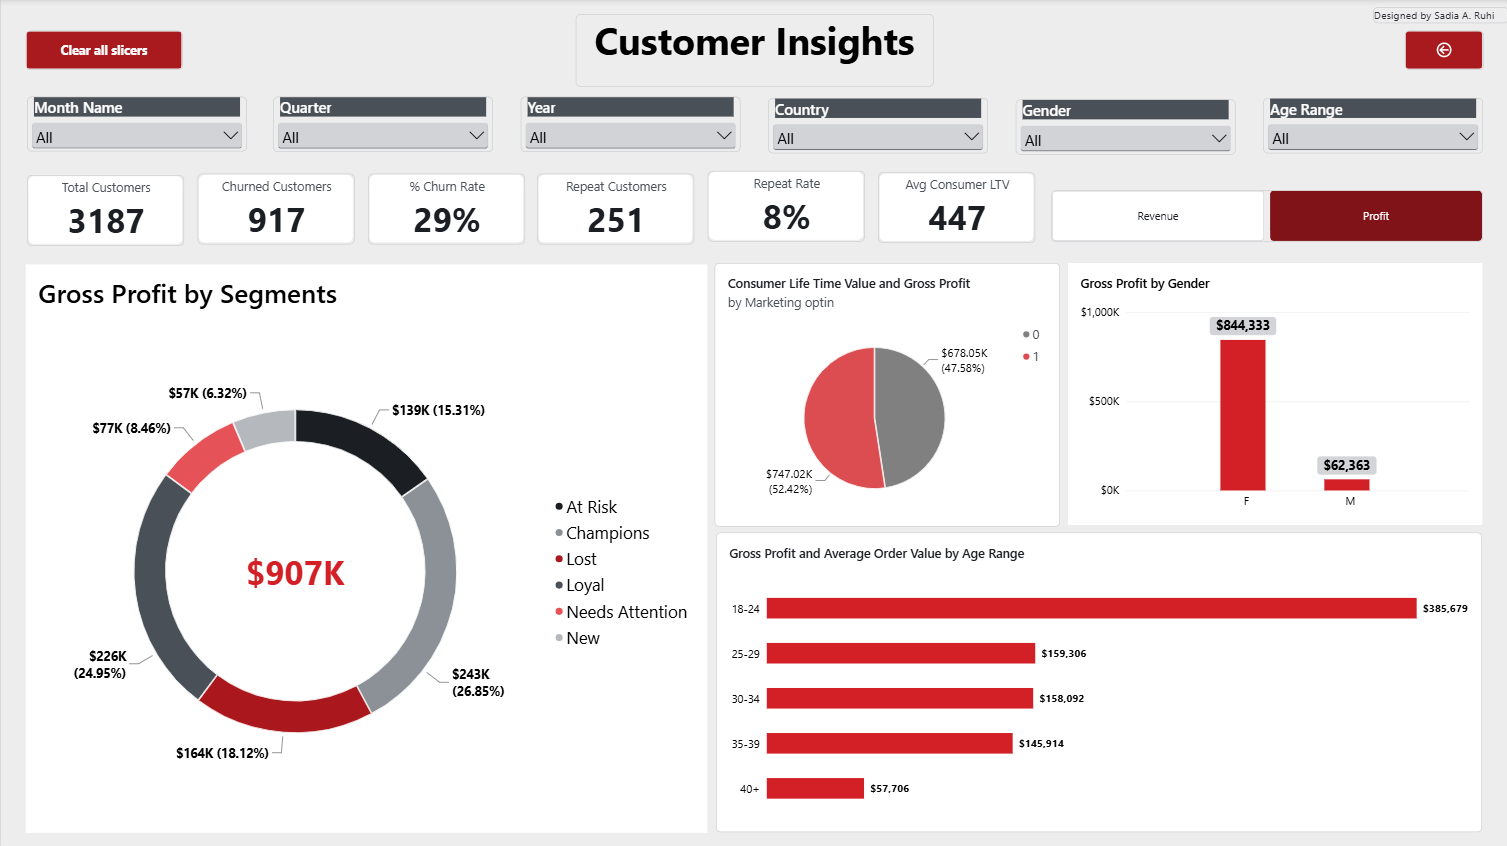

The page's visual inventory and layout, read from the dashboard file:
{"tool":"powerbi","page":{"name":"Customer Insights","canvas":[1920,1080],"ordinal":1},"visuals":[{"type":"textbox","box":[732,20,456,92],"z":0},{"type":"barChart","fields":{"Category":["Consumers info.Age Range"],"Y":["_Measures.Gross Profit"]},"box":[912,680,976,382],"z":0,"group":"g1"},{"type":"slicer","fields":{"Values":["DateTable.Year"]},"box":[662.7,124,280,70.8],"z":1000},{"type":"columnChart","title":"Gross Profit by Gender","fields":{"Category":["Consumers info.Gender"],"Y":["_Measures.Gross Profit"]},"box":[1360,336,528,334],"z":1000,"group":"g1"},{"type":"slicer","fields":{"Values":["Consumers info.Country"]},"box":[977.8,126,280,70.8],"z":2000},{"type":"donutChart","title":"Gross Profit by Segments","fields":{"Category":["RFM Table.Segment"],"Y":["_Measures.Gross Profit"]},"box":[32,338,868,724],"z":2000,"group":"g1"},{"type":"slicer","fields":{"Values":["Consumers info.Age Range"]},"box":[1608,126,280,70.8],"z":3000},{"type":"pieChart","fields":{"Category":["Consumers info.Marketing optin"],"Y":["Sum(Consumers info.Consumer LTV)"]},"box":[910,336,440,336],"z":3000,"group":"g1"},{"type":"slicer","fields":{"Values":["DateTable.Month Name"]},"box":[32.5,125,280,70],"z":4000},{"type":"slicer","fields":{"Values":["DateTable.Quarter"]},"box":[347.6,124,280,70.8],"z":5000},{"type":"actionButton","box":[32,40,200,50],"z":6000},{"type":"actionButton","box":[1788,40,100,50],"z":8000},{"type":"slicer","fields":{"Values":["Consumers info.Gender"]},"box":[1292.9,128,280,70.8],"z":9000},{"type":"cardVisual","fields":{"Data":["_Measures.Total Customers"]},"box":[33.5,223.5,200,90],"z":10000},{"type":"cardVisual","fields":{"Data":["RFM Table.% Churn Rate"]},"box":[467.1,222.5,200,90],"z":11000},{"type":"cardVisual","fields":{"Data":["RFM Table.Repeat Customers"]},"box":[683.9,222.5,200,90],"z":12000},{"type":"cardVisual","fields":{"Data":["RFM Table.Repeat Rate"]},"box":[900.7,218.9,200,90],"z":13000},{"type":"cardVisual","fields":{"Data":["RFM Table.Churned Customers"]},"box":[250.3,222.5,200,90],"z":14000},{"type":"cardVisual","fields":{"Data":["_Measures.Avg Consumer LTV"]},"box":[1117.5,220,200,90],"z":15000},{"type":"bookmarkNavigator","box":[1338,244,550,66],"z":17000},{"type":"group","id":"g1","title":"P","box":[32,336,1856,726],"z":18000},{"type":"textbox","box":[1748,10,172,20],"z":19000}]}

Visuals, with their boxes in screenshot pixels (x1, y1, x2, y2), scaled from the page's 1920x1080 canvas onto the 1507x846 screenshot:
textbox: bbox=[575, 16, 932, 88]
barChart - Consumers info.Age Range x _Measures.Gross Profit: bbox=[716, 533, 1482, 832]
slicer - DateTable.Year: bbox=[520, 97, 740, 153]
"Gross Profit by Gender" columnChart: bbox=[1067, 263, 1482, 525]
slicer - Consumers info.Country: bbox=[767, 99, 987, 154]
"Gross Profit by Segments" donutChart: bbox=[25, 265, 706, 832]
slicer - Consumers info.Age Range: bbox=[1262, 99, 1482, 154]
pieChart - Consumers info.Marketing optin x Sum(Consumers info.Consumer LTV): bbox=[714, 263, 1060, 526]
slicer - DateTable.Month Name: bbox=[26, 98, 245, 153]
slicer - DateTable.Quarter: bbox=[273, 97, 493, 153]
actionButton: bbox=[25, 31, 182, 70]
actionButton: bbox=[1403, 31, 1482, 70]
slicer - Consumers info.Gender: bbox=[1015, 100, 1235, 156]
cardVisual - _Measures.Total Customers: bbox=[26, 175, 183, 246]
cardVisual - RFM Table.% Churn Rate: bbox=[367, 174, 524, 245]
cardVisual - RFM Table.Repeat Customers: bbox=[537, 174, 694, 245]
cardVisual - RFM Table.Repeat Rate: bbox=[707, 171, 864, 242]
cardVisual - RFM Table.Churned Customers: bbox=[196, 174, 353, 245]
cardVisual - _Measures.Avg Consumer LTV: bbox=[877, 172, 1034, 243]
bookmarkNavigator: bbox=[1050, 191, 1482, 243]
"P" group: bbox=[25, 263, 1482, 832]
textbox: bbox=[1372, 8, 1506, 24]
